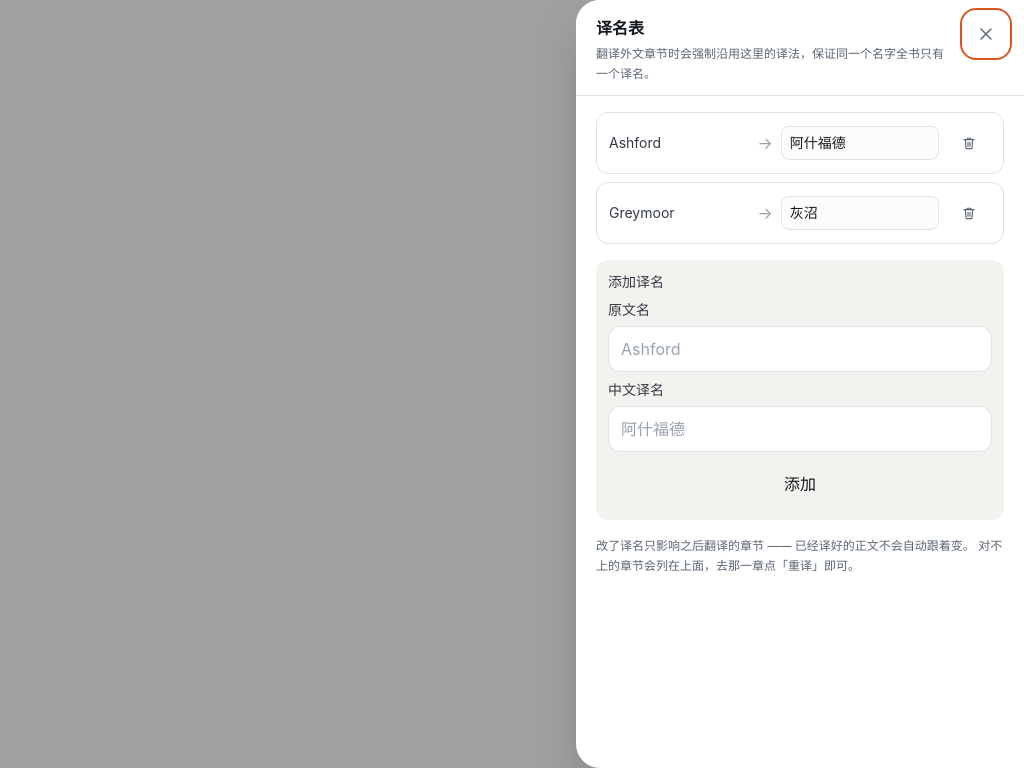
改译名 › 放弃改动把输入退回原值
This screenshot has width=1024, height=768.
Replace the text in the field named "Ashford 的译名" with "艾许佛": x=860, y=143 top-left (781, 126), bottom-right (939, 160)
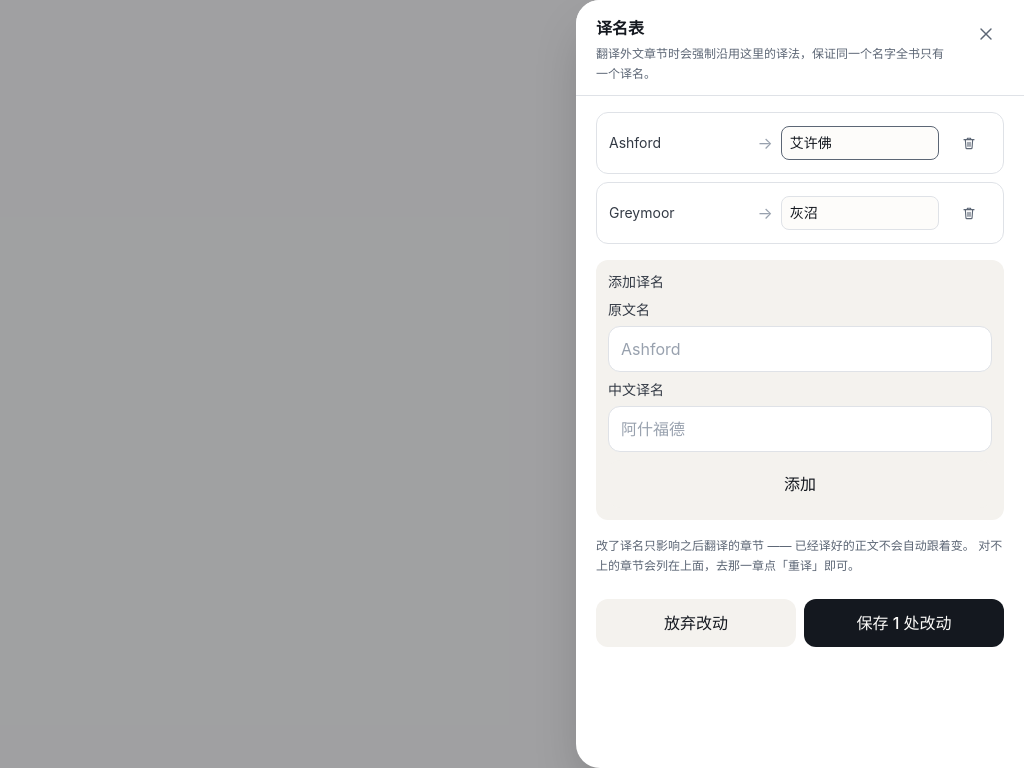
Click the button "放弃改动": x=696, y=623 top-left (596, 599), bottom-right (796, 647)
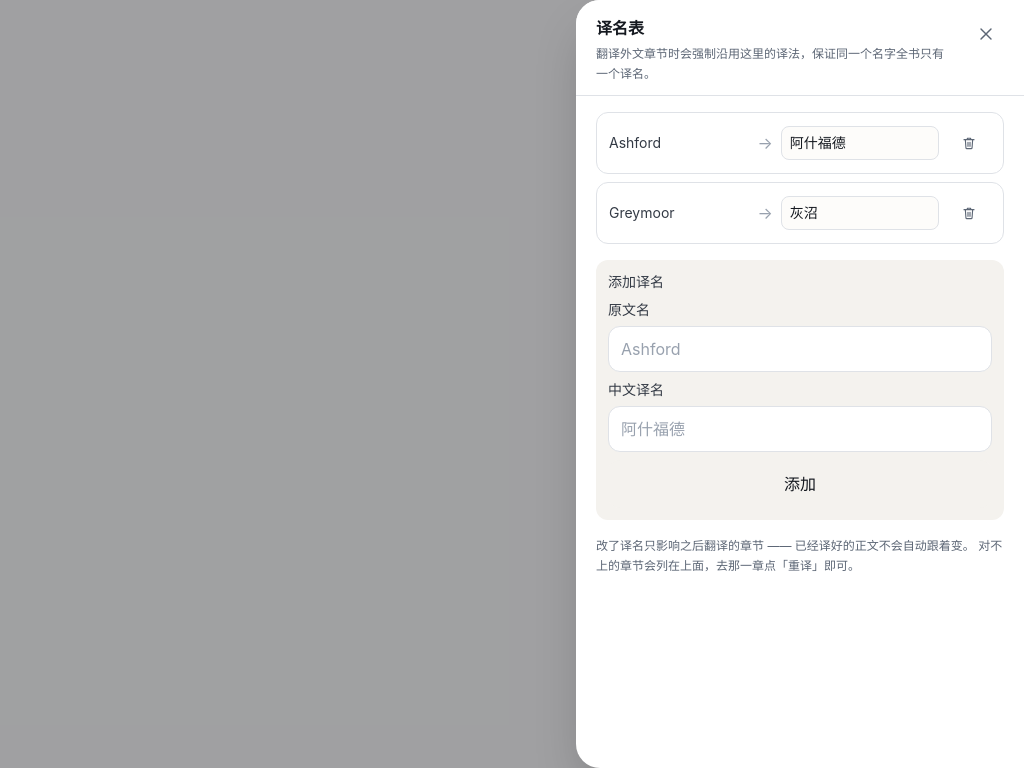
Check: the field named "Ashford 的译名" holds "阿什福德", box top-left (781, 126), bottom-right (939, 160)
